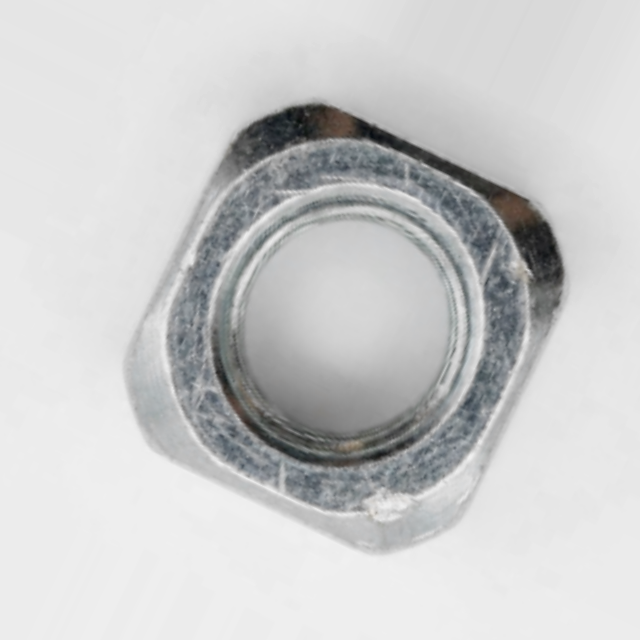defect: (347, 482, 424, 522)
